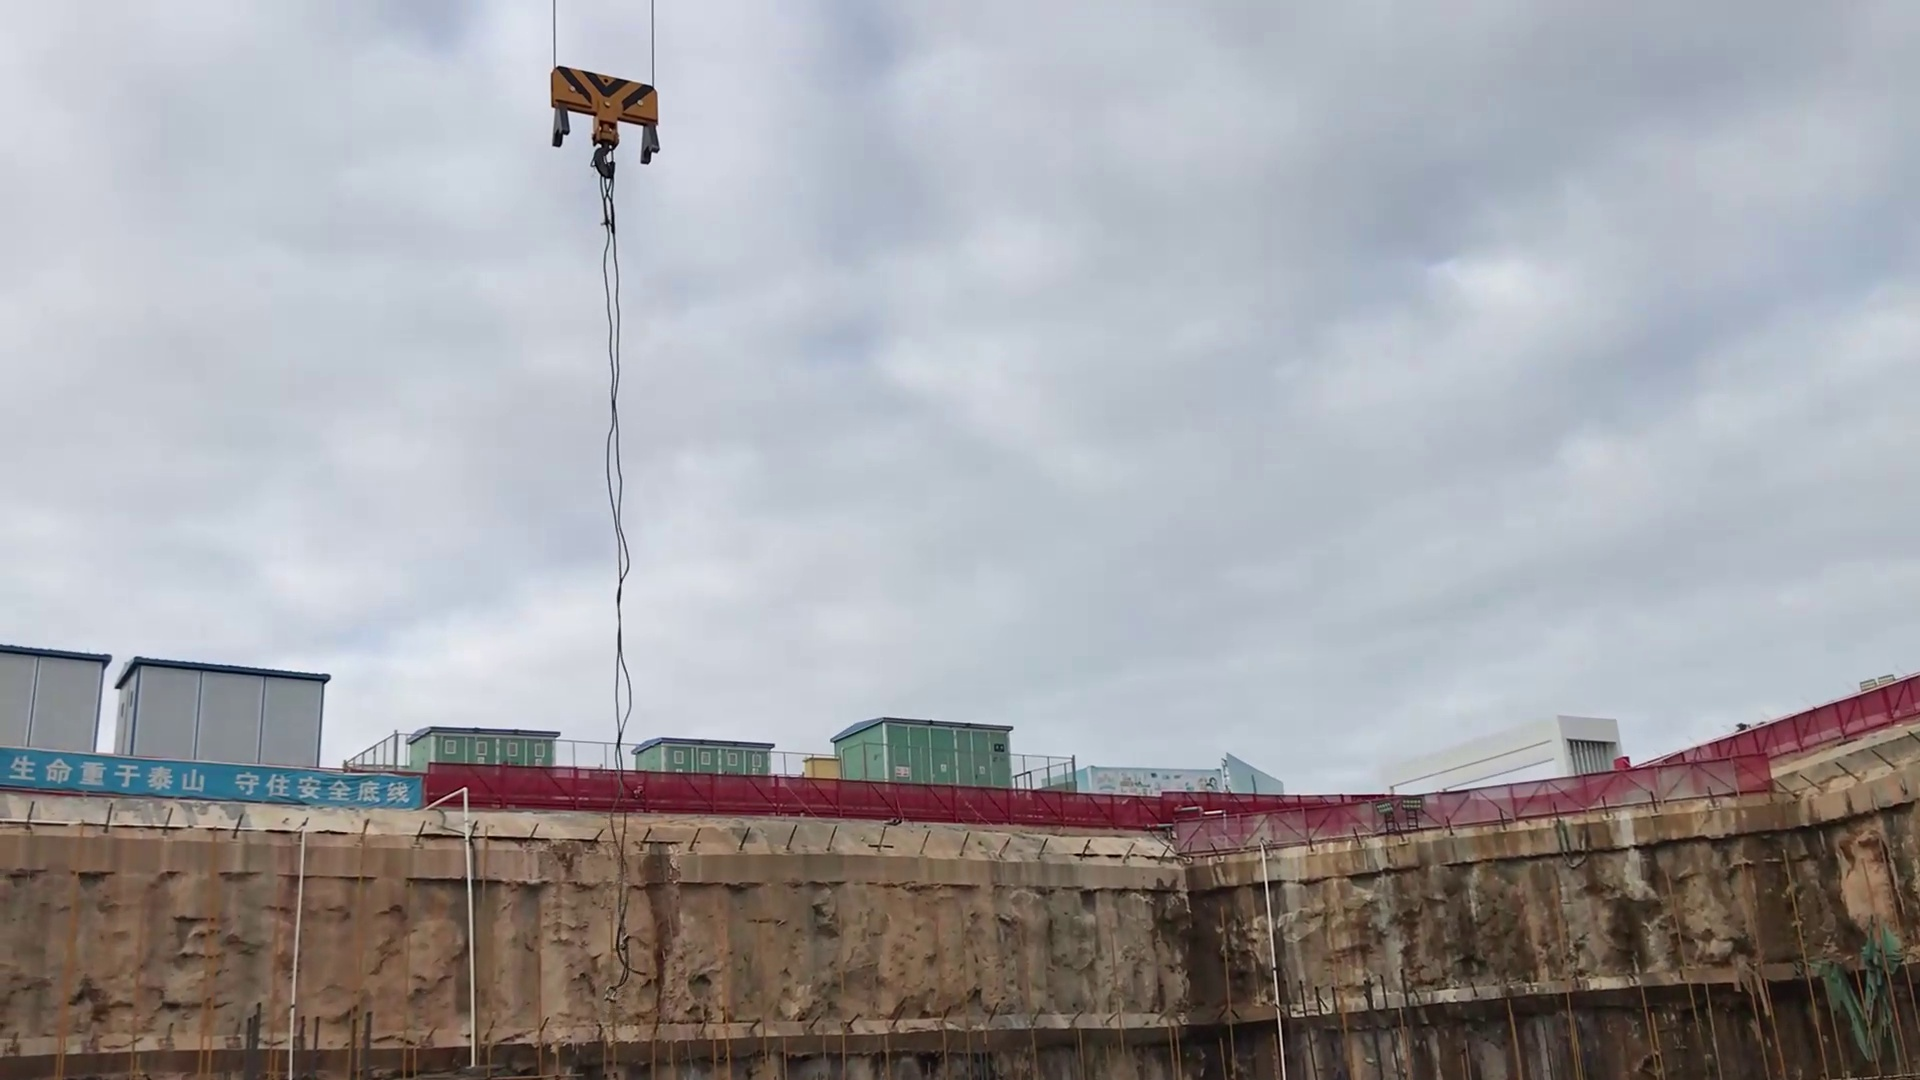hook: (545, 61, 669, 183)
slogan: (1, 746, 422, 808)
